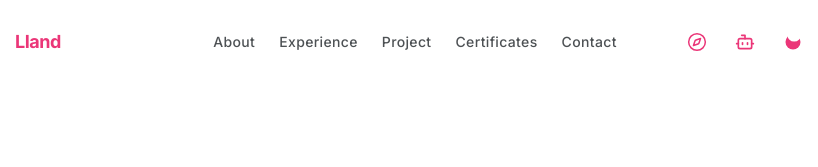
Test case: Navbar & useActiveSection › opens the Explore menu and links to the gallery
Click the button named "Explore".
click(697, 42)  # box [675,20,719,64]
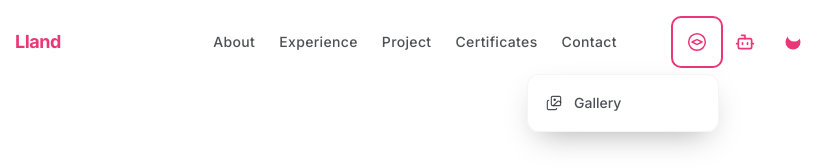
Expected: the button named "Explore" is expanded, [675,20,719,64]
